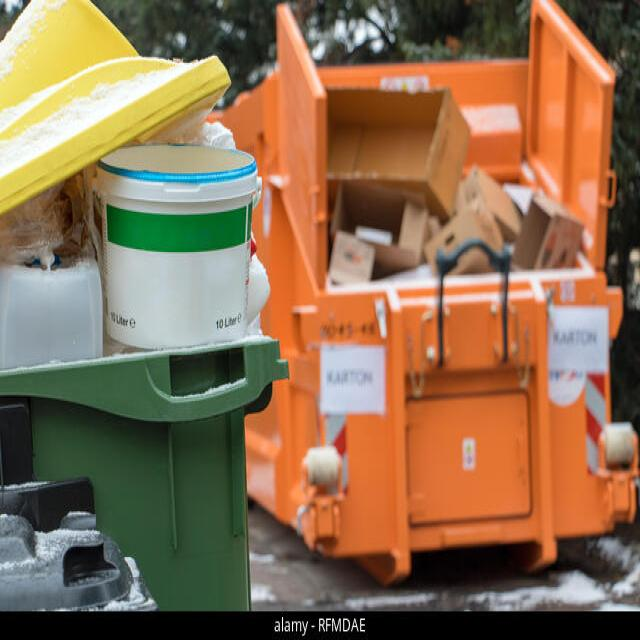cardboard: (369, 143, 528, 268)
plastic: (83, 178, 257, 322)
